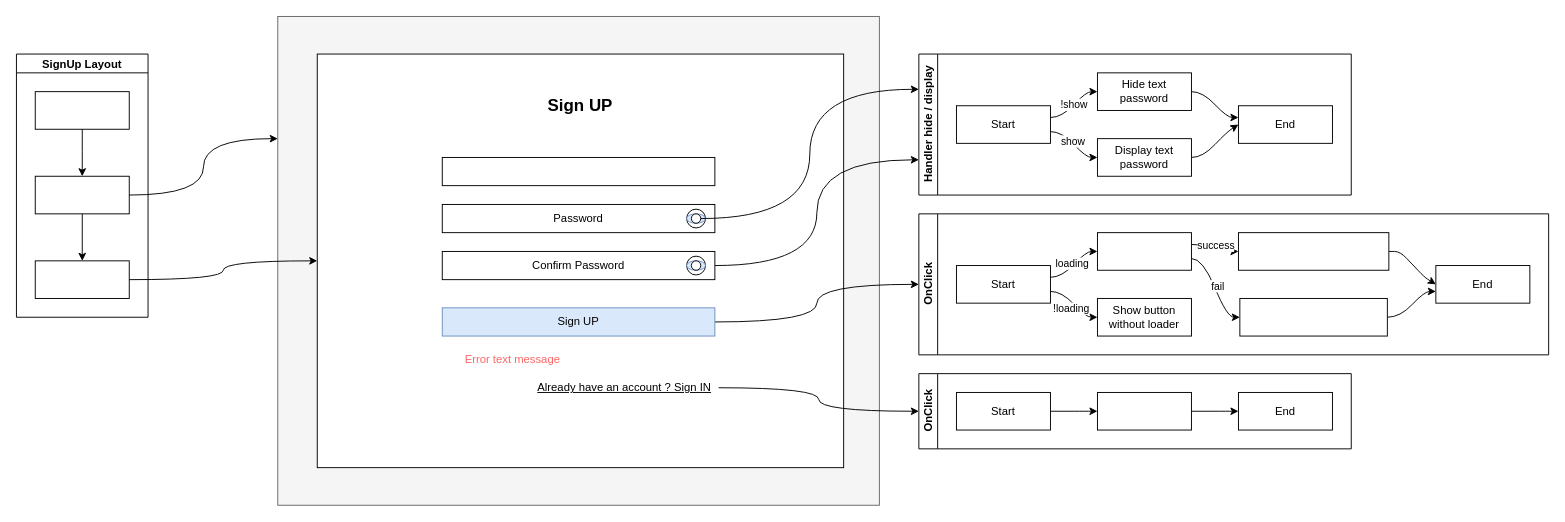
Some shapes in this 1565 by 522 pixel diagram are drawn without their labels. The centre of each missing label's shape, as x and y in pixels:
"Display errors" belongs at (1313,317).
"Email" belongs at (578,171).
"MainLayout" belongs at (81,194).
"Redirect to /confirmsignup" belongs at (1313,251).
"Redirect to /signin" belongs at (1144,411).
"Show loader min 2sec" belongs at (1144,251).
"SignUp" belongs at (81,279).
"SignUpPage" belongs at (81,110).
